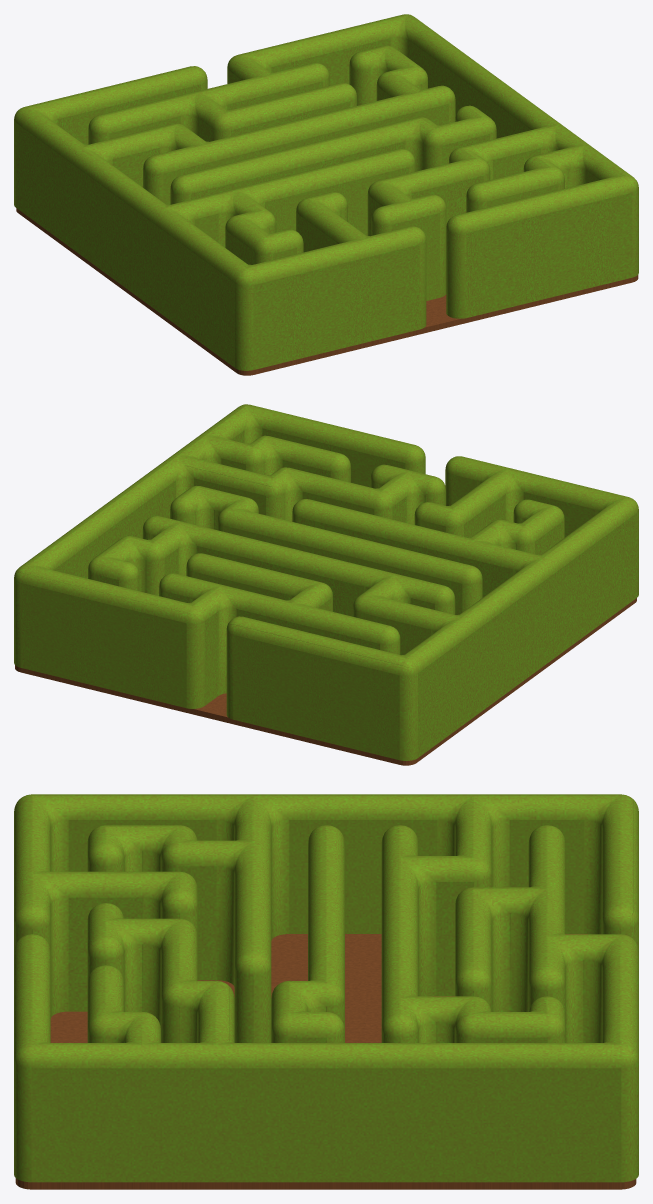
Rendered from maze_grass.obj.
3 renders of one model, top to bottom at view 1: azimuth 30°, elevation 25°; view 2: azimuth 150°, elevation 25°; view 3: azimuth 270°, elevation 25°, orthographic. The views are drawn at different scales.
Parts seen in each view (by area): view 1: Plane, Plane.002, Plane.003, Plane.001; view 2: Plane, Plane.002, Plane.003, Plane.001; view 3: Plane.002, Plane, Plane.001, Plane.003.
Boxes of the visible parts, bbox=[...] form: Plane: bbox=[14, 45, 455, 370]; Plane.002: bbox=[88, 14, 638, 318]; Plane.003: bbox=[170, 105, 496, 204]; Plane.001: bbox=[16, 208, 638, 375]; Plane: bbox=[88, 456, 638, 760]; Plane.002: bbox=[14, 404, 445, 708]; Plane.003: bbox=[170, 485, 482, 614]; Plane.001: bbox=[15, 598, 636, 765]; Plane.002: bbox=[14, 825, 638, 1182]; Plane: bbox=[14, 794, 638, 1042]; Plane.001: bbox=[15, 934, 636, 1189]; Plane.003: bbox=[271, 825, 344, 1042].
Bounding box in the file's own units: 38.99 × 9.49 × 39.06.
Materials: 2 (2 with a texture image).
